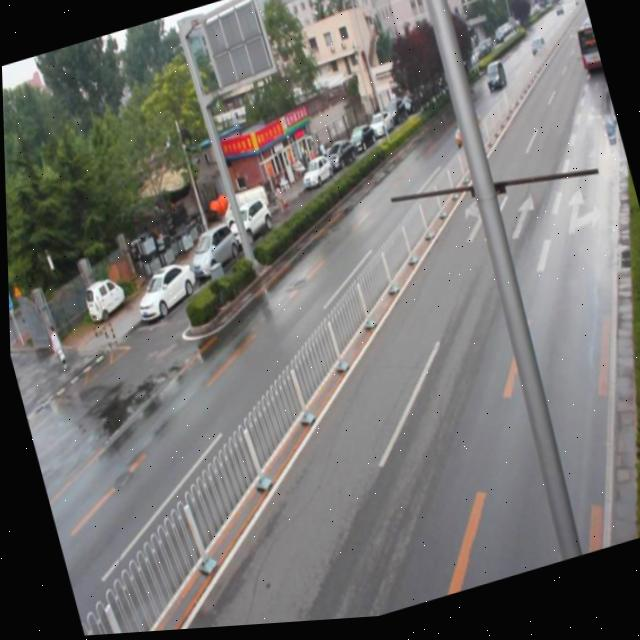car: (445, 113, 485, 157)
